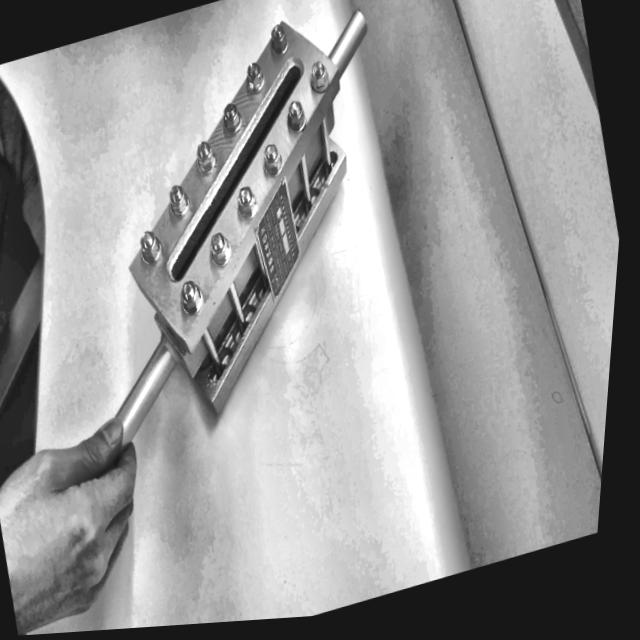ShuiWeiQi_12: (18, 0, 439, 433)
